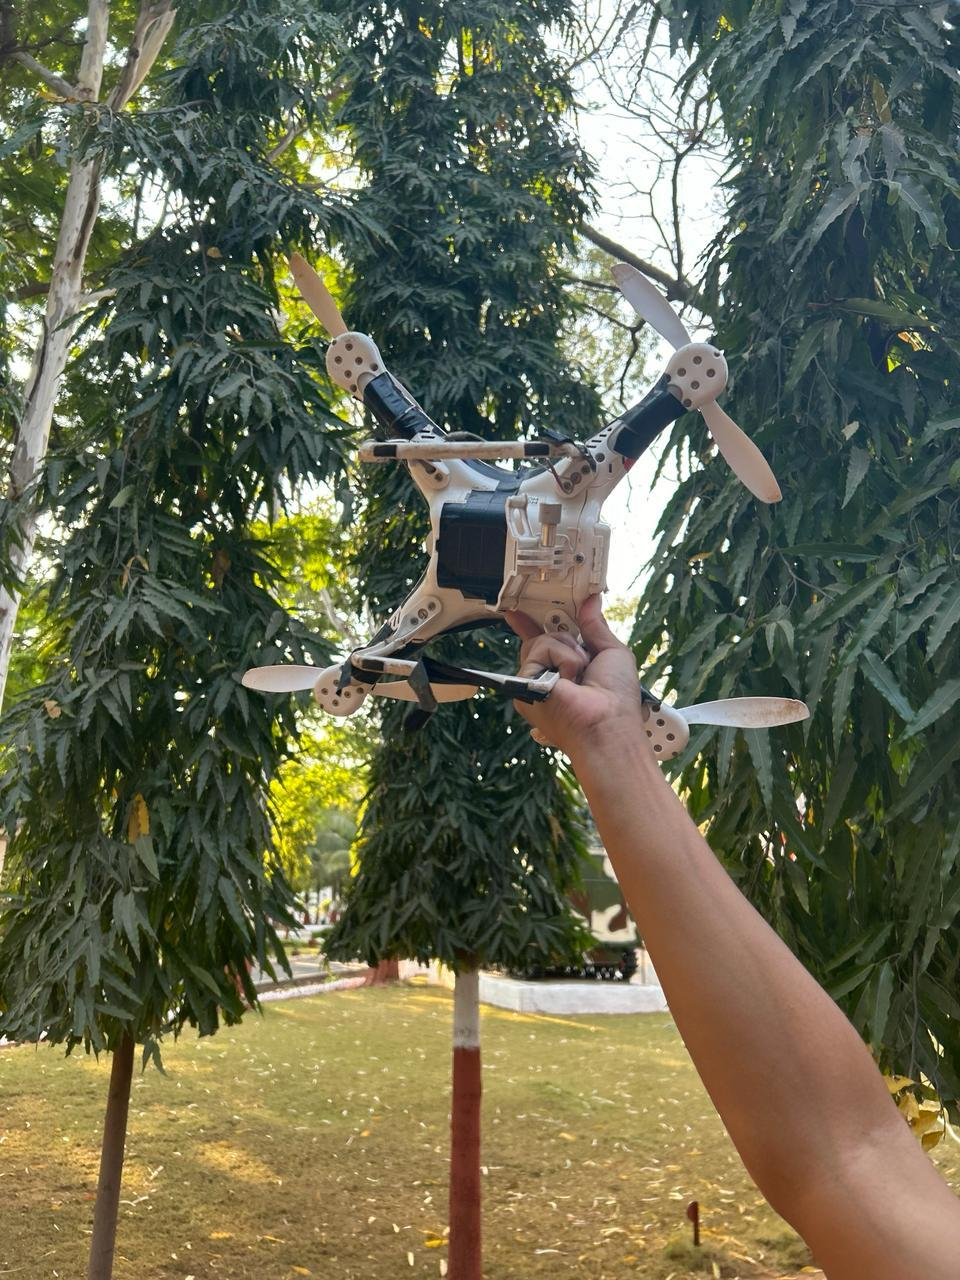drone: (181, 204, 866, 786)
